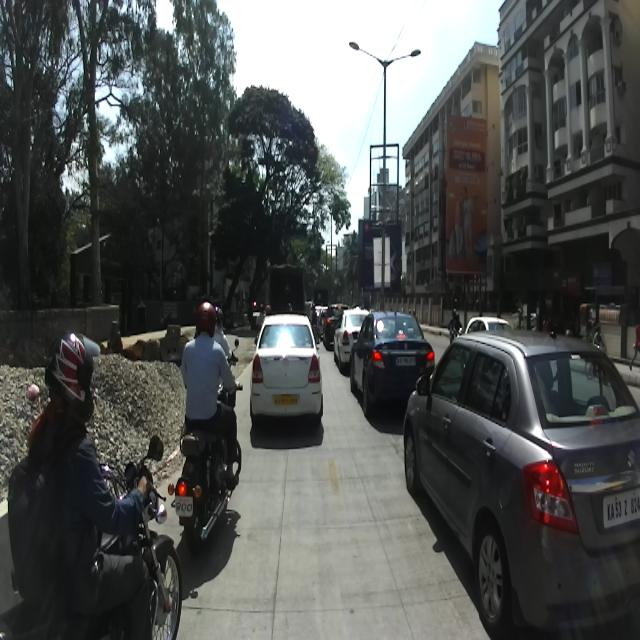car ahead at: (403, 328, 637, 639), (245, 308, 328, 426)
motorcycle ahead at: (174, 427, 238, 548)
